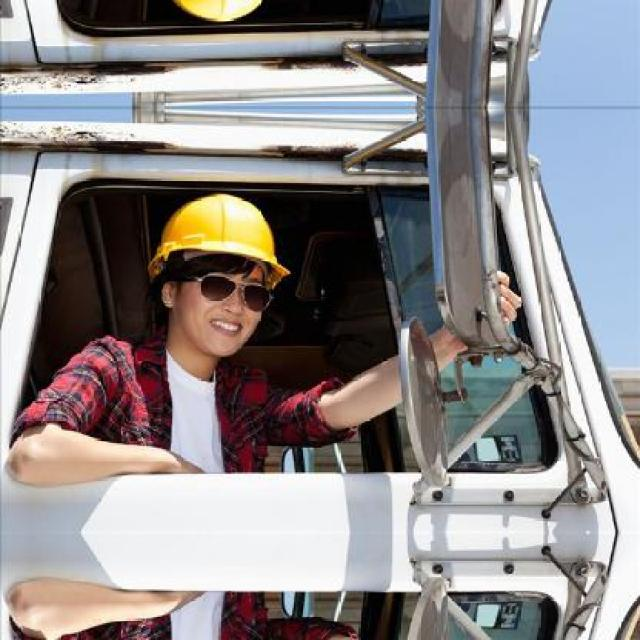helmet: (138, 162, 298, 382), (138, 0, 300, 51)
